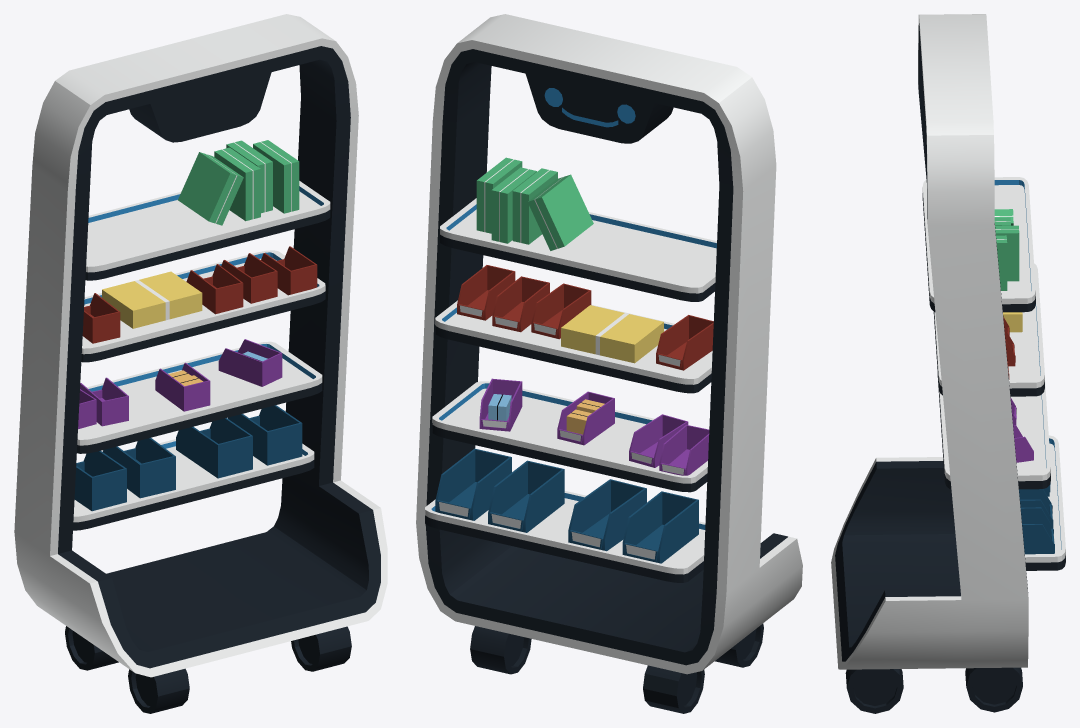
Rendered from Robot_003.fbx.
3 views of the same model, side by side, from view 1: azimuth 30°, elevation 25°; view 2: azimuth 150°, elevation 25°; view 3: azimuth 270°, elevation 25° (orthographic). The views are drawn at different scales.
Parts seen in each view (by area): view 1: Robot_003; view 2: Robot_003; view 3: Robot_003.
Boxes of the visible parts, x1,y1,x2,y2 form: Robot_003: (14, 14, 387, 713); Robot_003: (416, 14, 802, 713); Robot_003: (831, 14, 1065, 713).
Size of the model in its own units: 91.43 by 176 by 62.61.
